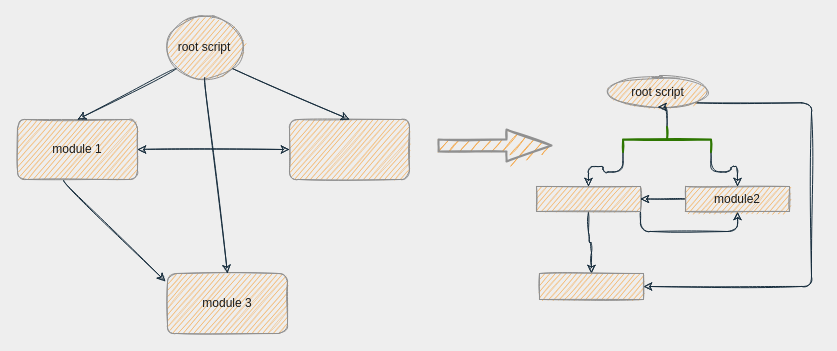
Some shapes in this 837 by 351 pixel diagram are drawn without their labels. Each missing label, with the centre of its shape:
module 2: [349,149]
module1: [588,199]
module3: [591,286]
